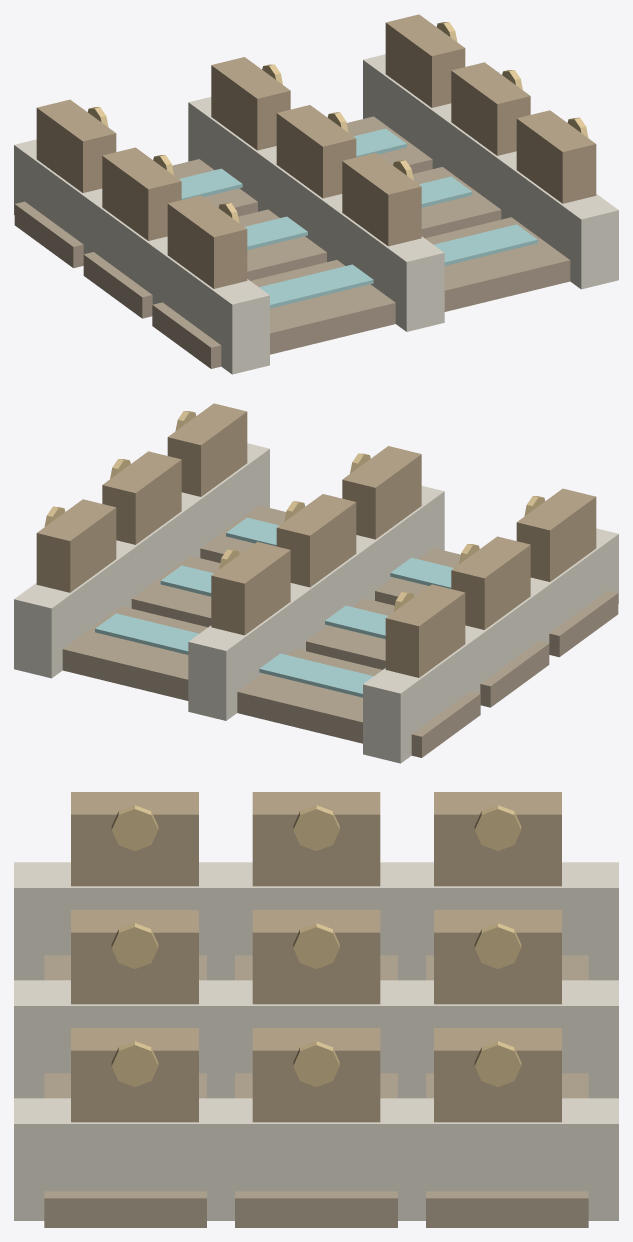
File: three_mouth_sluice_near-B84WnIEF.glb
3 views of the same model, one above another, from view 1: azimuth 30°, elevation 25°; view 2: azimuth 150°, elevation 25°; view 3: azimuth 270°, elevation 25° (orthographic). The views are drawn at different scales.
Visible parts, largest first — view 1: three_mouth_sluice_near; view 2: three_mouth_sluice_near; view 3: three_mouth_sluice_near.
Boxes of the visible parts, x1,y1,x2,y2 form: three_mouth_sluice_near: (14, 14, 618, 374); three_mouth_sluice_near: (14, 403, 618, 763); three_mouth_sluice_near: (14, 792, 618, 1227).
Size of the model in its own units: 14 by 4.25 by 13.
